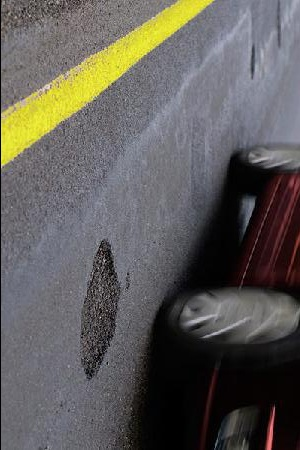pothole: (79, 237, 122, 381), (249, 42, 259, 80), (123, 268, 132, 289)
